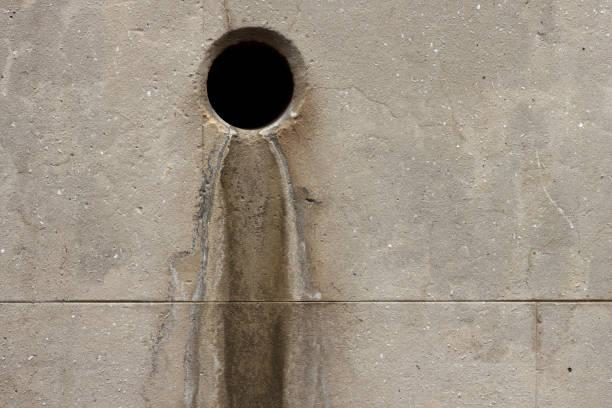Corrosion: (181, 126, 337, 408)
Crack: (140, 257, 177, 408), (309, 84, 400, 119)
Spalling: (192, 26, 308, 139)
